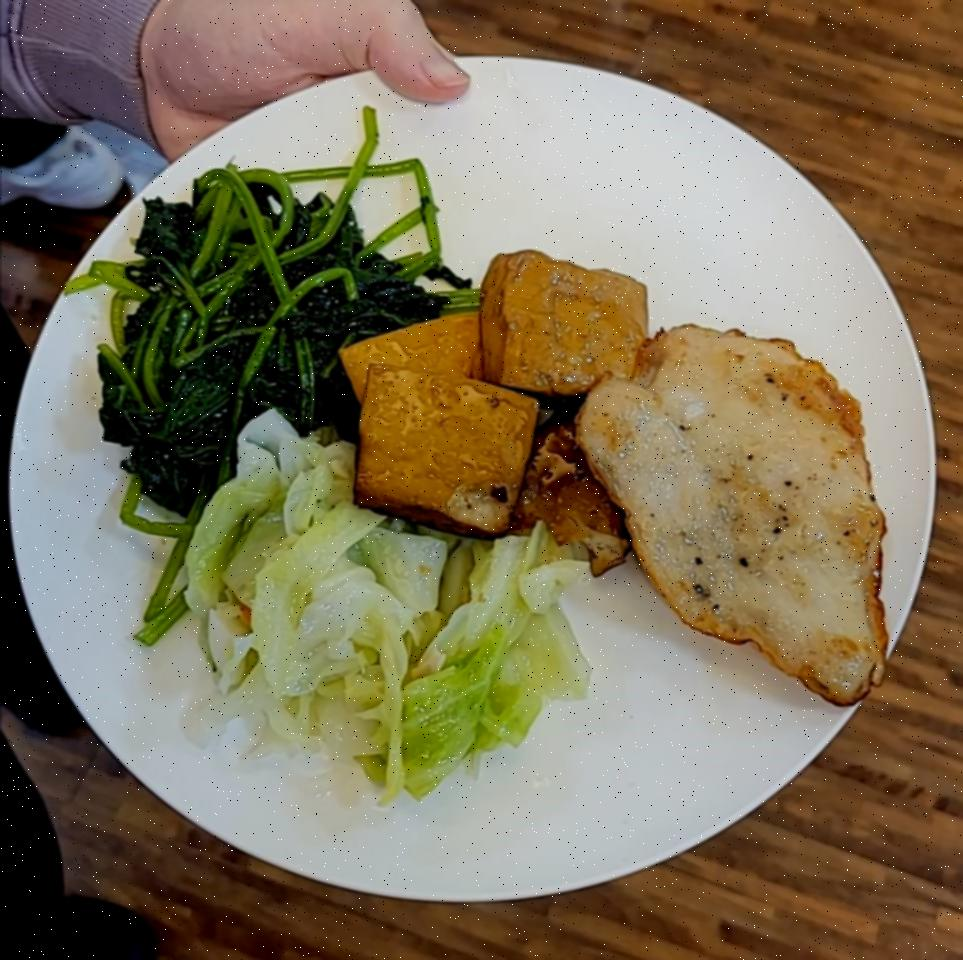grilled chicken steak: (581, 314, 904, 710)
plate: (8, 42, 947, 897)
side dish: (187, 414, 580, 794), (100, 140, 433, 518), (336, 250, 647, 574)
